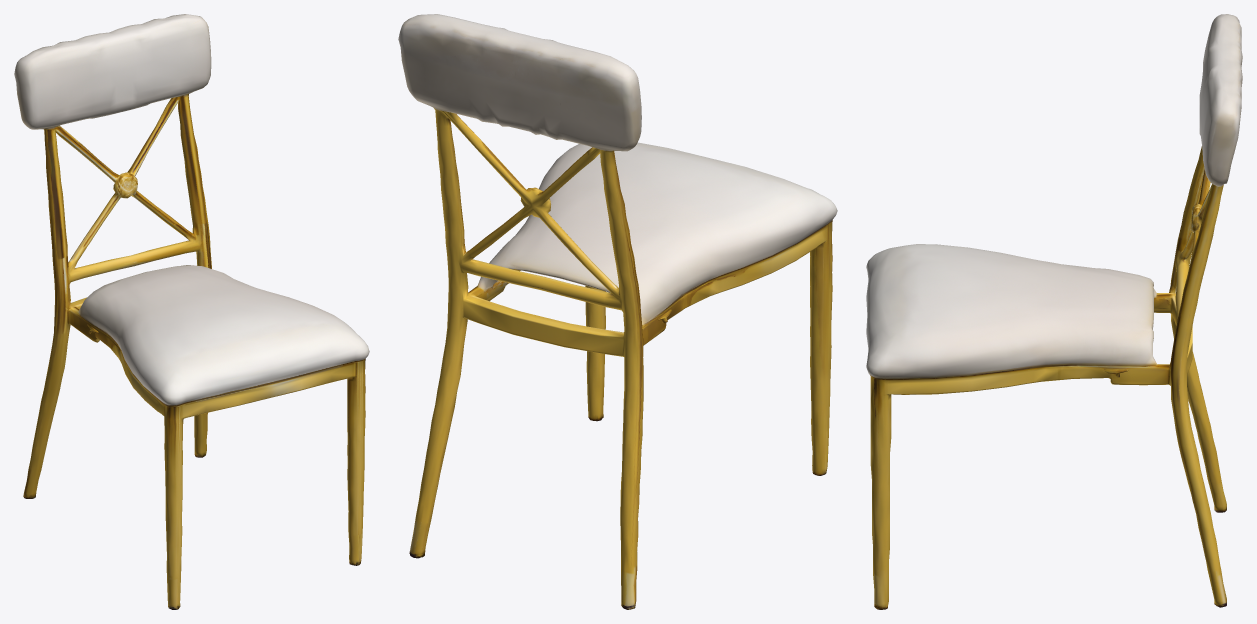
Rendered from Franklin_Gold_and_Whi_0404022129_texture.glb.
3 renders of one model, left to right at view 1: azimuth 30°, elevation 25°; view 2: azimuth 150°, elevation 25°; view 3: azimuth 270°, elevation 25°, orthographic. The views are drawn at different scales.
Parts seen in each view (by area): view 1: Mesh_0; view 2: Mesh_0; view 3: Mesh_0.
Part boxes in pixels (x1=…): Mesh_0: x1=14, y1=14, x2=369, y2=609; Mesh_0: x1=398, y1=14, x2=837, y2=609; Mesh_0: x1=866, y1=14, x2=1242, y2=609.
Bounding box in the file's own units: 0.3956 × 0.8128 × 0.5524.
Materials: 1 (1 with a texture image).
